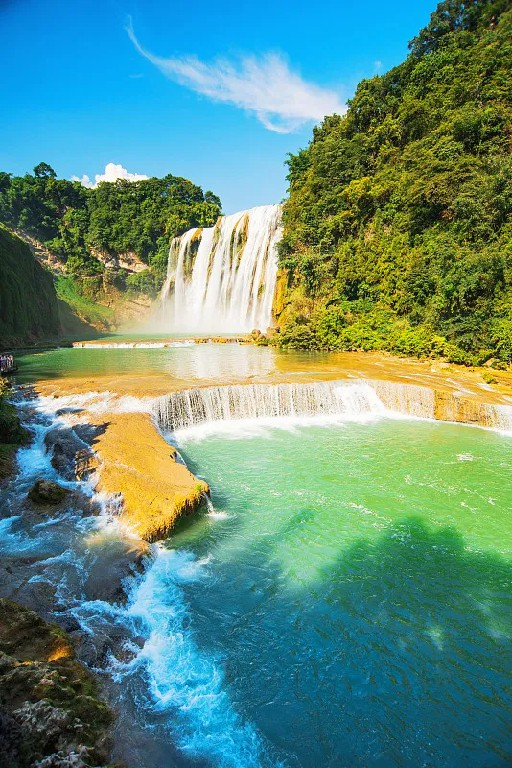Huangguoshu: (149, 204, 284, 332)
